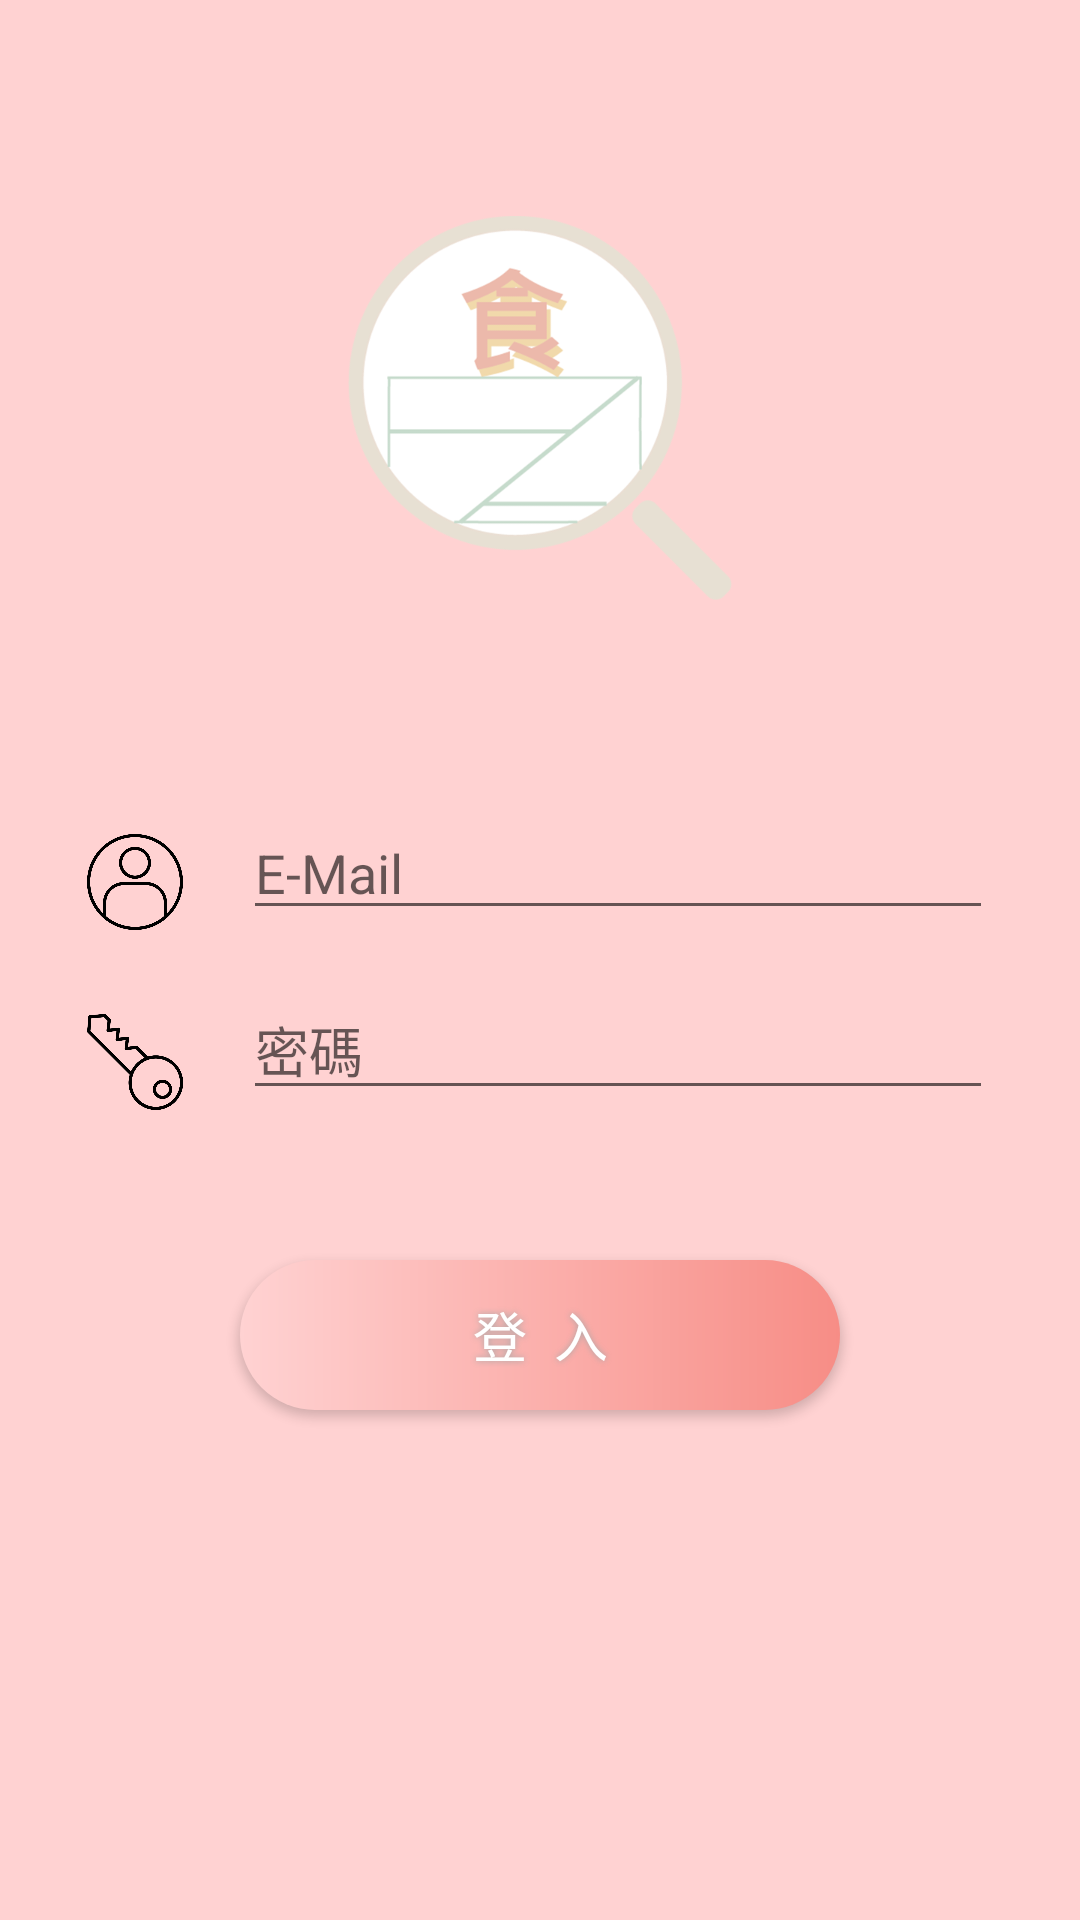

Icon bounding boxes for this 1080*1920 phone screenshot, format [left=x1, top=y1, right=x2, bottom=y2]:
account: [left=87, top=834, right=183, bottom=930]
key: [left=87, top=1014, right=183, bottom=1110]
